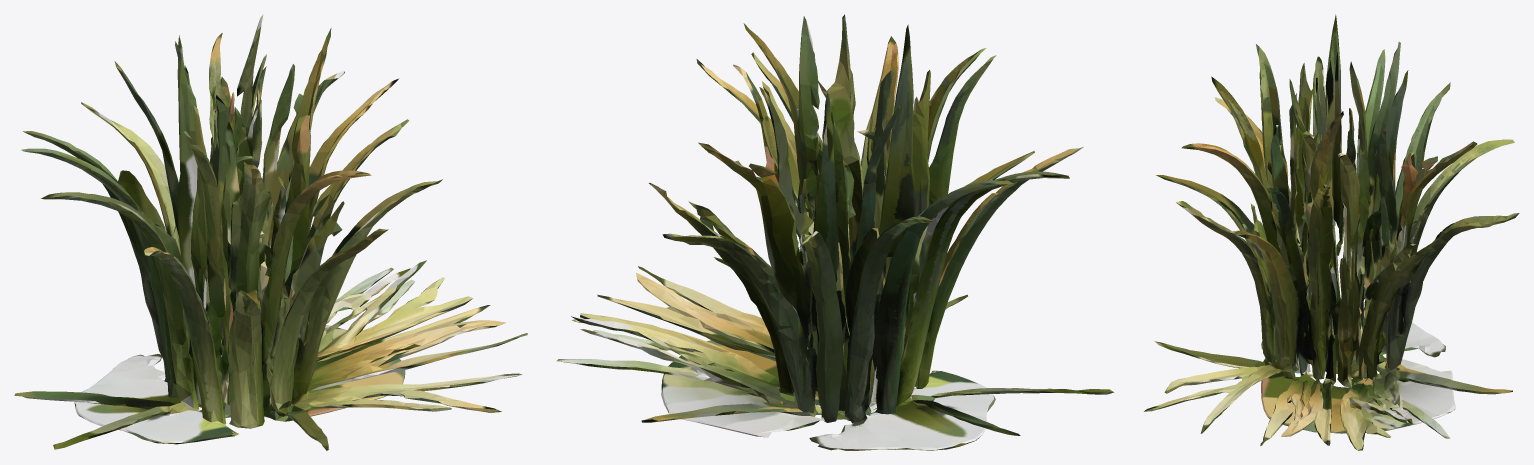
The model's file is traveler_env_coast_iuchi_brook_reeds_00001_.glb.
3 views of the same model, side by side, from view 1: azimuth 30°, elevation 25°; view 2: azimuth 150°, elevation 25°; view 3: azimuth 270°, elevation 25° (orthographic). The views are drawn at different scales.
Parts seen in each view (by area): view 1: temp_mesh.ply; view 2: temp_mesh.ply; view 3: temp_mesh.ply.
Part boxes in pixels (<box>): temp_mesh.ply: <box>14,14,527,450</box>; temp_mesh.ply: <box>556,14,1113,450</box>; temp_mesh.ply: <box>1144,14,1519,450</box>.
Size of the model in its own units: 1.97 by 1.51 by 1.56.
1 material, 1 textured.
